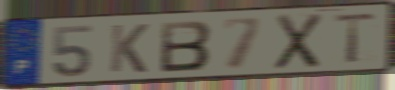5: (51, 23, 93, 79)
7: (221, 15, 263, 72)
B: (159, 19, 214, 74)
K: (108, 22, 151, 75)
T: (331, 11, 380, 66)
X: (273, 11, 325, 71)
